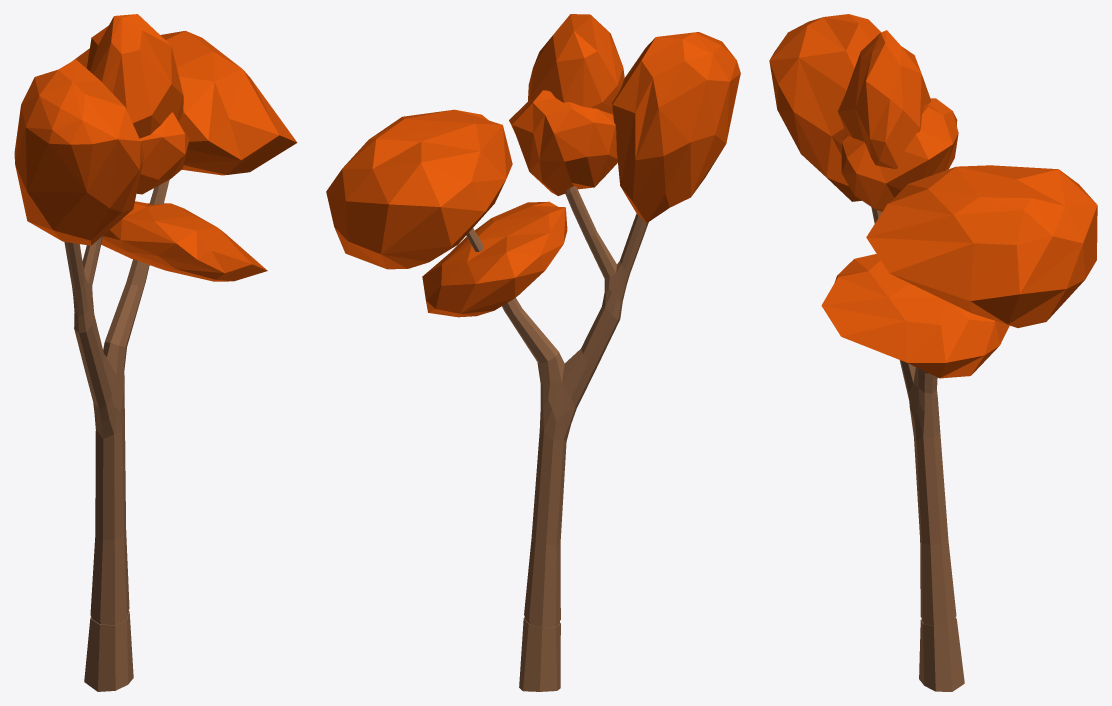
Rendered from tree-autumn-complete-6-010.glb.
The picture shows the model from 3 angles, left to right: view 1: azimuth 30°, elevation 25°; view 2: azimuth 150°, elevation 25°; view 3: azimuth 270°, elevation 25°; orthographic projection. The views are drawn at different scales.
Parts seen in each view (by area): view 1: TREE 6.003_401, TREE 6.002_402; view 2: TREE 6.003_401, TREE 6.002_402; view 3: TREE 6.003_401, TREE 6.002_402.
Part boxes in pixels (<box>): TREE 6.003_401: <box>14,14,297,281</box>; TREE 6.002_402: <box>64,180,169,691</box>; TREE 6.003_401: <box>326,14,740,317</box>; TREE 6.002_402: <box>466,186,648,691</box>; TREE 6.003_401: <box>769,14,1097,378</box>; TREE 6.002_402: <box>871,207,964,691</box>.
Bounding box in the file's own units: 0.9337 × 1.9 × 0.8774.
